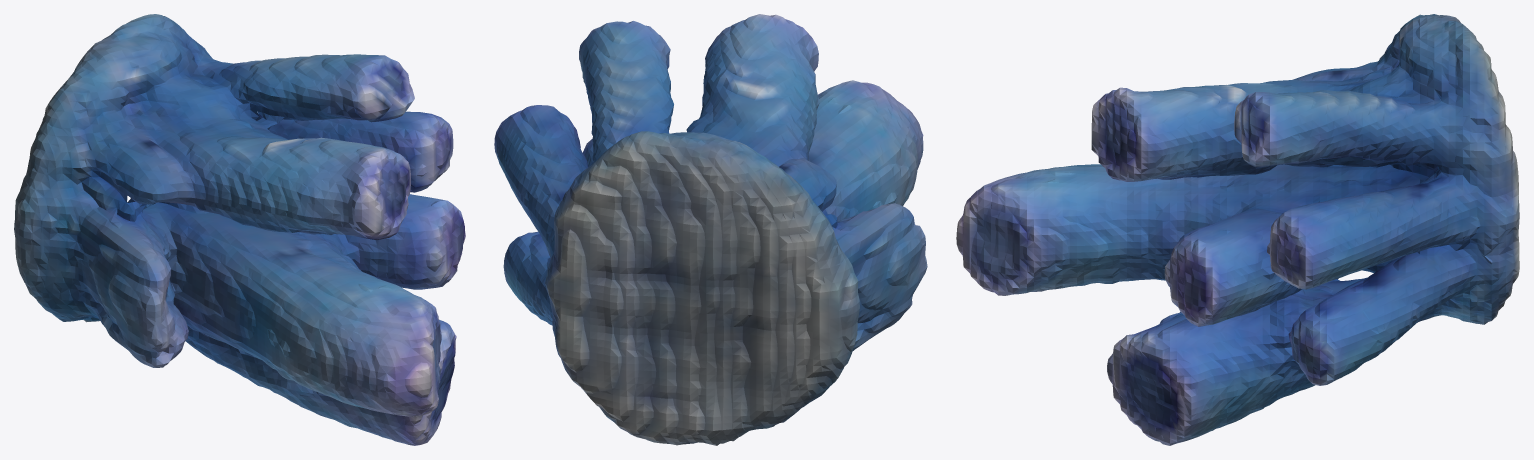
Rendered from coral-tube-sponge-triposr-01.glb.
3 views of the same model, side by side, from view 1: azimuth 30°, elevation 25°; view 2: azimuth 150°, elevation 25°; view 3: azimuth 270°, elevation 25° (orthographic). The views are drawn at different scales.
Parts seen in each view (by area): view 1: world; view 2: world; view 3: world.
Boxes of the visible parts, x1,y1,x2,y2 form: world: (14,14,465,445); world: (494,14,927,445); world: (956,14,1519,445).
Bounding box in the file's own units: 0.8616 × 0.7286 × 1.08.
